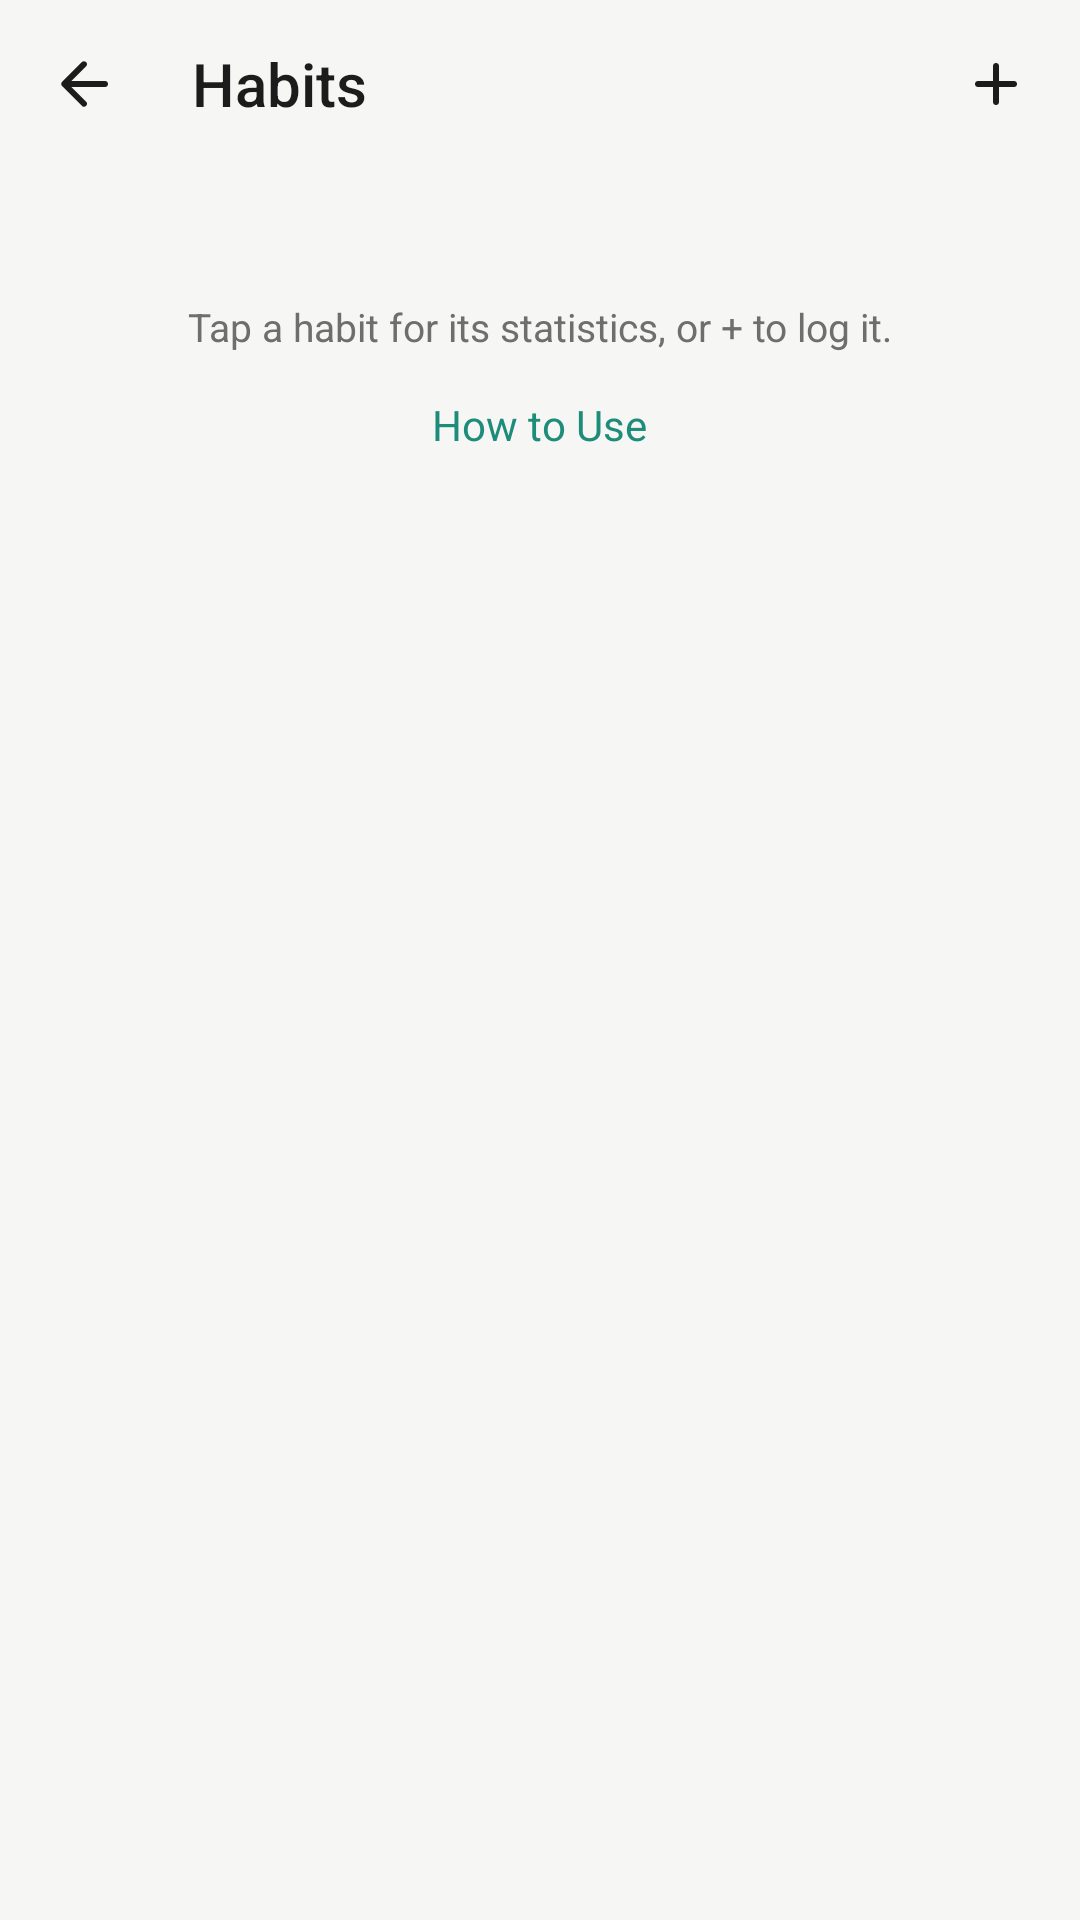

Icon bounding boxes for this 1080px×1920px phone screenshot, format (x1, y1, x2, y2):
Back: (61, 61, 108, 107)
New Habit: (975, 63, 1017, 105)
